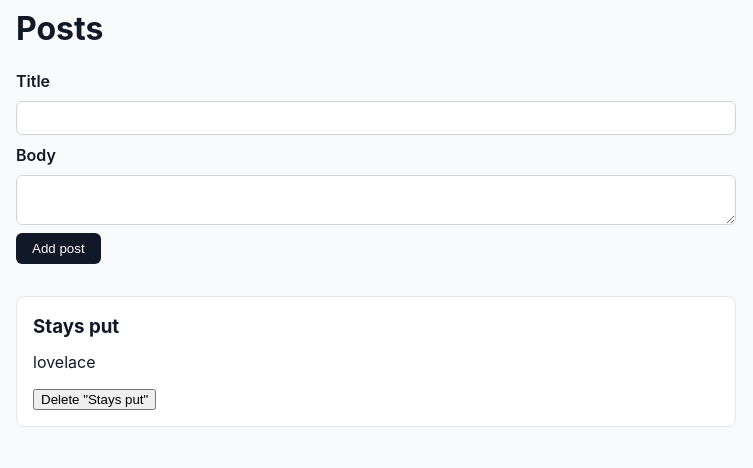
App › shows an alert and keeps the post when the delete request fails
Expected: the heading "Stays put" is shown, [33,315,119,338]
Click the button "Delete \"Stays put\"" at (95, 399), box [33,388,156,410]
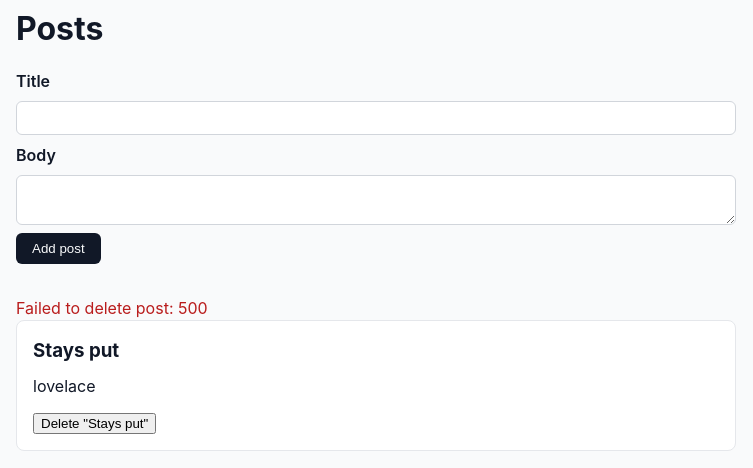
Expected: the heading "Stays put" is shown, [33,339,119,362]
Now the message "Failed to delete post: 500" is shown, box [16,298,208,318]
